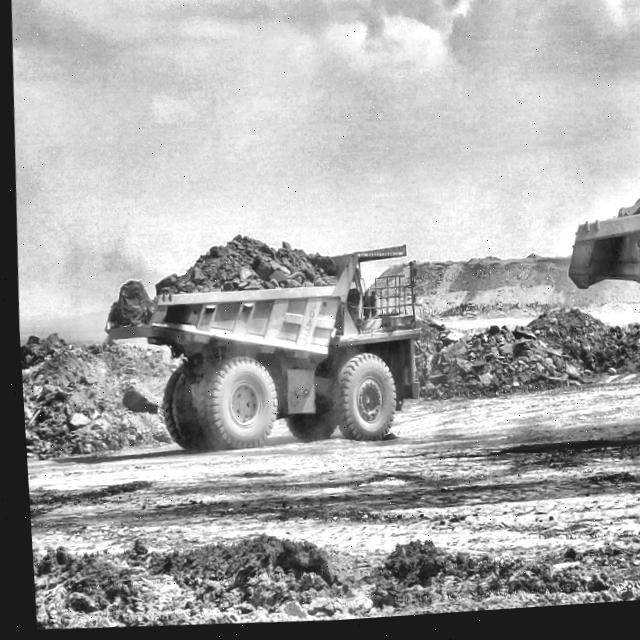dump_truck: (105, 239, 419, 454)
